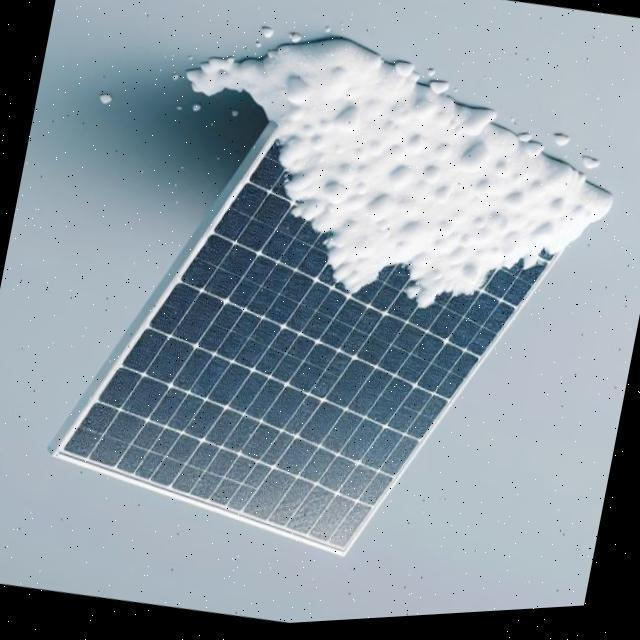Anomaly Solar Panel: (58, 40, 600, 624)
Snow: (223, 58, 599, 384)
